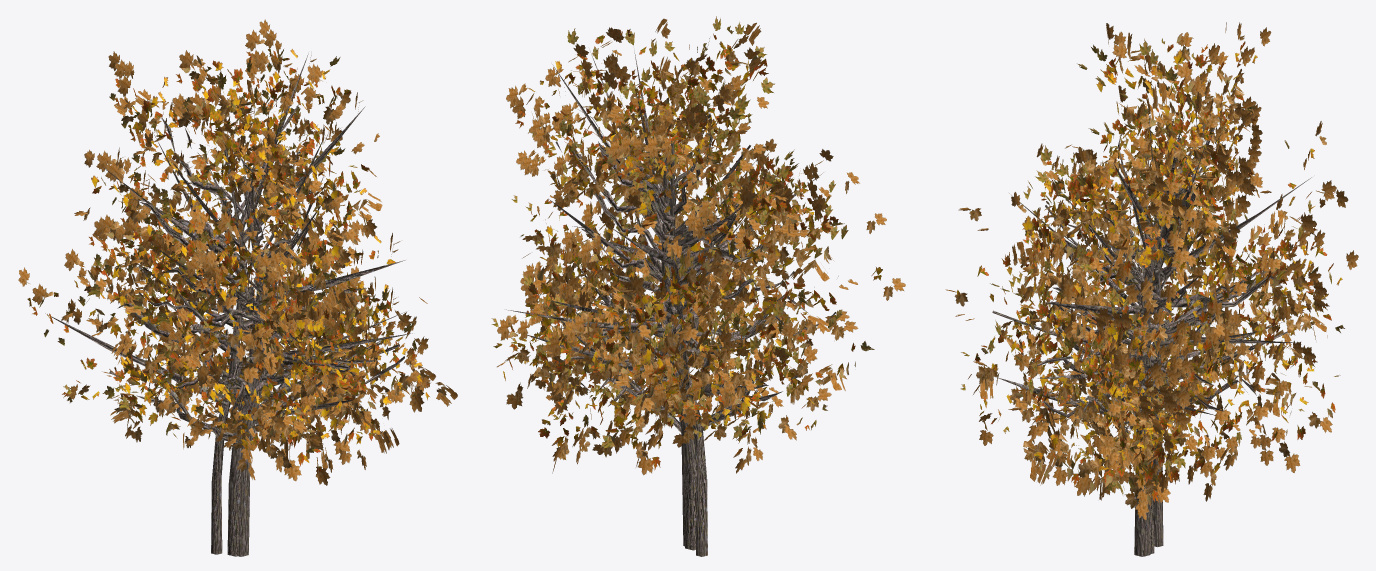
Rendered from maples.glb.
3 renders of one model, left to right at view 1: azimuth 30°, elevation 25°; view 2: azimuth 150°, elevation 25°; view 3: azimuth 270°, elevation 25°, orthographic. The views are drawn at different scales.
Parts seen in each view (by area): view 1: Fall113 source tree 2, Fall113 source tree 1, Fall113 source tree 0; view 2: Fall113 source tree 2, Fall113 source tree 1, Fall113 source tree 0; view 3: Fall113 source tree 1, Fall113 source tree 2, Fall113 source tree 0.
Part boxes in pixels (x1=…): Fall113 source tree 2: x1=18, y1=19, x2=428, y2=554; Fall113 source tree 1: x1=62, y1=50, x2=429, y2=556; Fall113 source tree 0: x1=87, y1=53, x2=457, y2=556; Fall113 source tree 2: x1=491, y1=27, x2=905, y2=556; Fall113 source tree 1: x1=493, y1=16, x2=836, y2=546; Fall113 source tree 0: x1=544, y1=18, x2=874, y2=550; Fall113 source tree 1: x1=960, y1=32, x2=1340, y2=556; Fall113 source tree 2: x1=945, y1=22, x2=1358, y2=547; Fall113 source tree 0: x1=976, y1=23, x2=1326, y2=554.
Size of the model in its own units: 1.99 by 2.8 by 2.09.
Materials: 2 (2 with a texture image).
